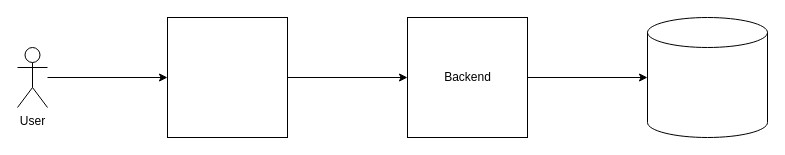
This 785x155 diagram has some shape labels left out. Here are the shapes that lost their labels. From the top down, the box of each, then its label:
(166, 16, 288, 138): Frontend
(646, 16, 768, 138): DB
